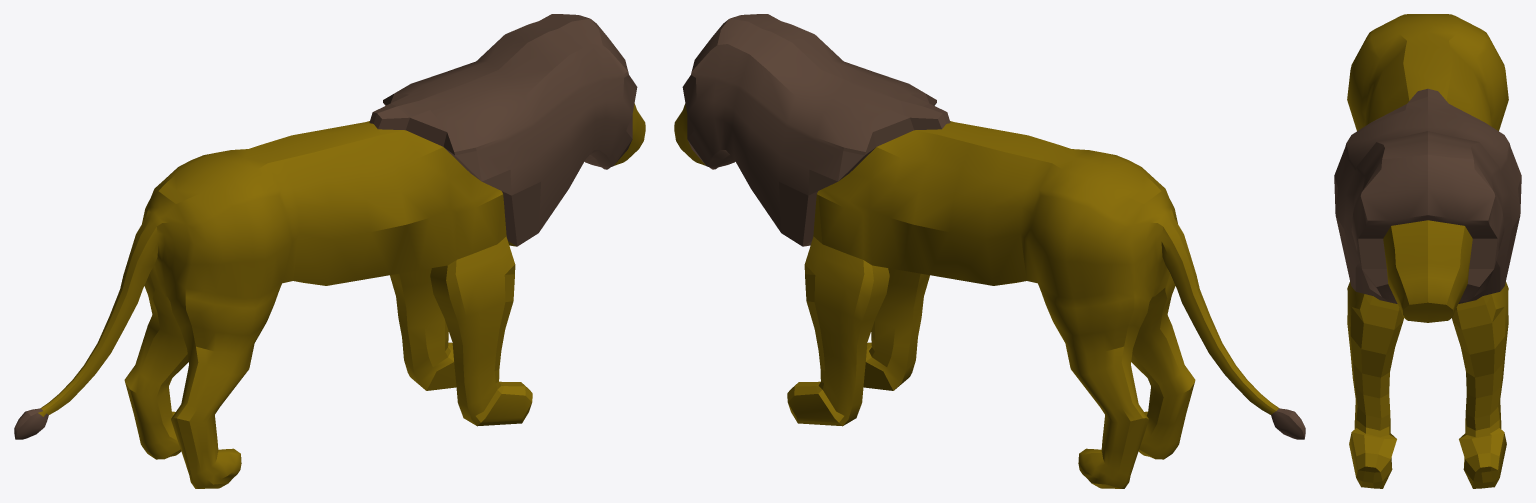
Rendered from lion.fbx.
The picture shows the model from 3 angles, left to right: view 1: azimuth 30°, elevation 25°; view 2: azimuth 150°, elevation 25°; view 3: azimuth 270°, elevation 25°; orthographic projection. The views are drawn at different scales.
Visible parts, largest first — view 1: Cube; view 2: Cube; view 3: Cube.
Boxes of the visible parts, x1=… form: Cube: x1=14, y1=14, x2=645, y2=488; Cube: x1=674, y1=14, x2=1305, y2=488; Cube: x1=1334, y1=14, x2=1521, y2=488.
Bounding box in the file's own units: 98.73 × 225 × 408.
